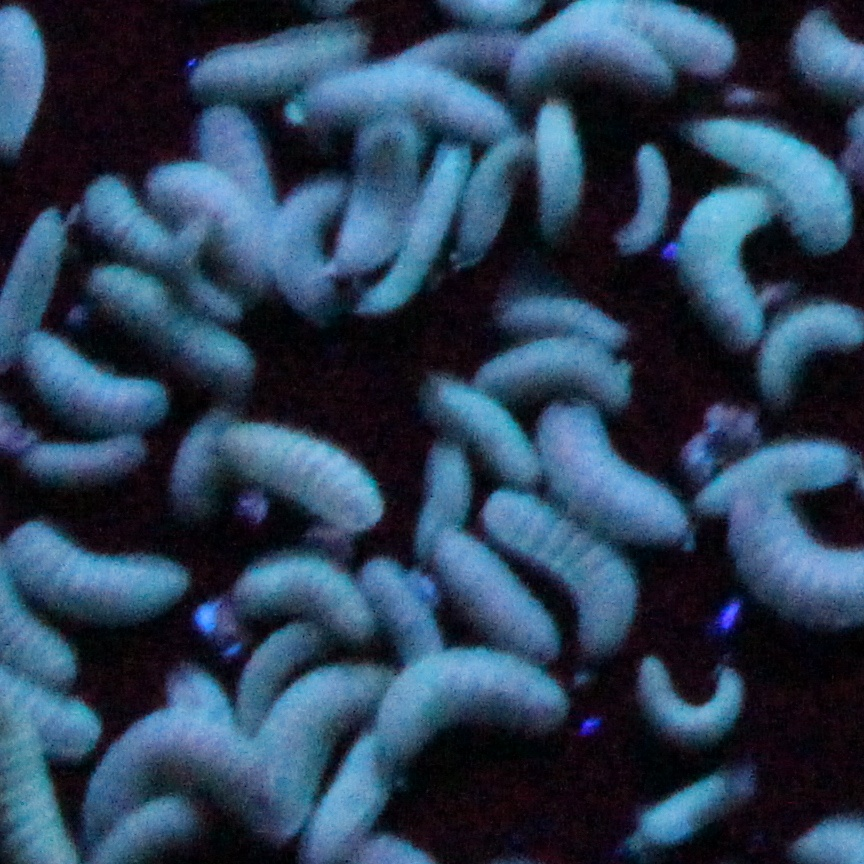larve: (489, 488, 629, 653), (547, 409, 689, 560), (372, 656, 570, 754), (89, 268, 250, 388), (257, 656, 376, 811), (223, 414, 383, 528), (83, 720, 265, 819), (22, 523, 183, 622), (681, 185, 769, 359), (28, 336, 175, 438), (436, 536, 565, 652), (714, 430, 861, 516), (306, 737, 407, 862), (206, 19, 363, 99), (157, 166, 262, 283), (312, 74, 507, 136), (232, 555, 378, 636), (467, 339, 633, 410), (429, 379, 539, 483), (339, 116, 399, 270), (640, 660, 750, 743), (272, 176, 338, 314), (462, 138, 535, 254), (81, 176, 171, 269), (766, 307, 863, 393), (499, 286, 631, 341), (13, 440, 151, 492), (536, 105, 583, 244), (611, 148, 677, 244), (408, 146, 451, 272), (524, 46, 666, 83), (415, 446, 466, 548)
